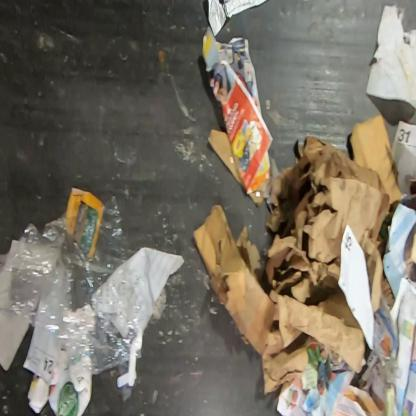cardboard: (192, 154, 383, 395), (293, 136, 391, 243), (350, 113, 403, 201), (207, 128, 241, 186)
soft_plastic: (0, 193, 150, 402)
